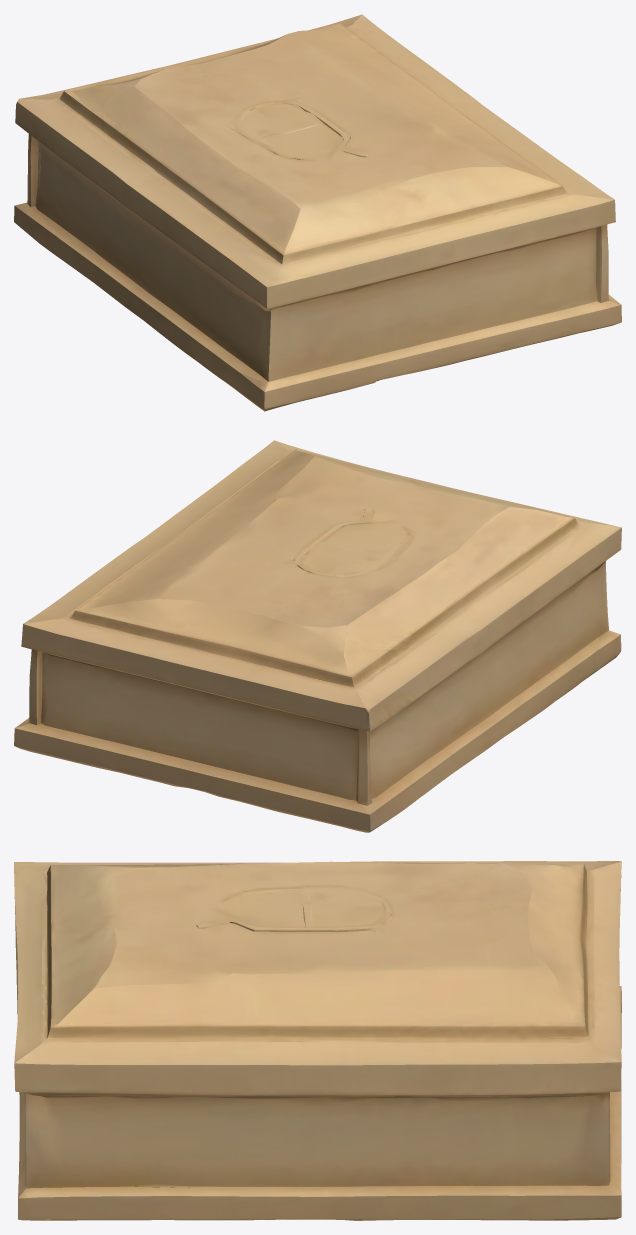
Rendered from sarcophagusT.glb.
The picture shows the model from 3 angles, top to bottom: view 1: azimuth 30°, elevation 25°; view 2: azimuth 150°, elevation 25°; view 3: azimuth 270°, elevation 25°; orthographic projection. The views are drawn at different scales.
Visible parts, largest first — view 1: model; view 2: model; view 3: model.
Part boxes in pixels (bbox=[...]): model: bbox=[14, 14, 621, 411]; model: bbox=[14, 440, 621, 832]; model: bbox=[14, 861, 621, 1220].
Bounding box in the file's own units: 1.56 × 0.6685 × 1.9.
Materials: 1 (1 with a texture image).
